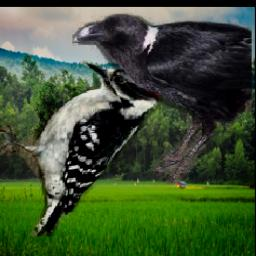Crow: (72, 14, 252, 187)
Woodpecker: (0, 61, 164, 236)
